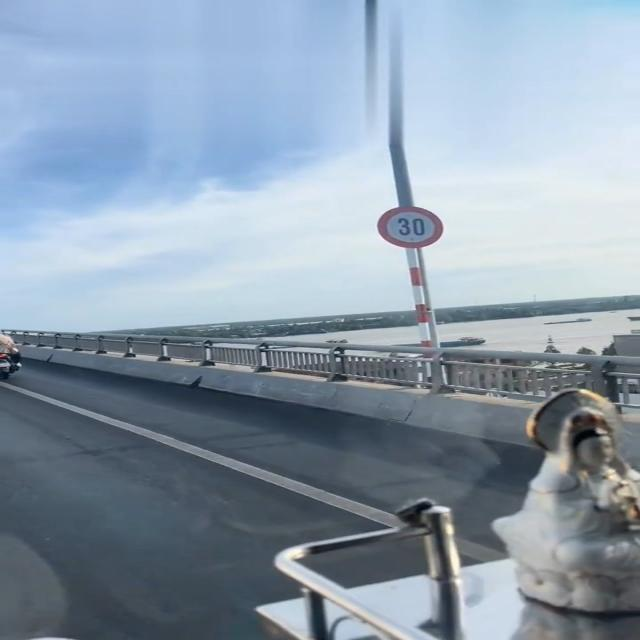127-toc-do-toi-da-30: (376, 207, 444, 249)
